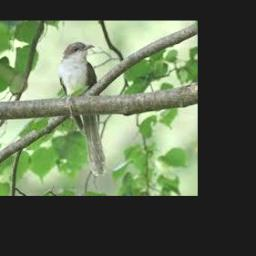Cuckoo: (58, 42, 105, 177)
